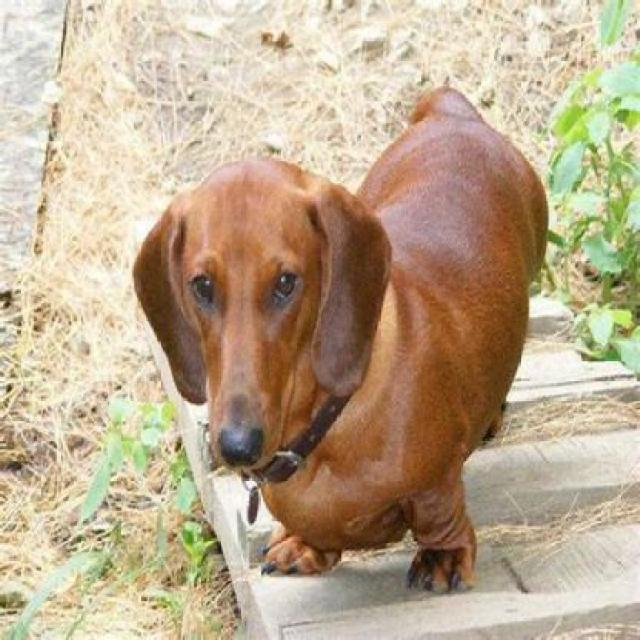Dog: (130, 83, 552, 605)
